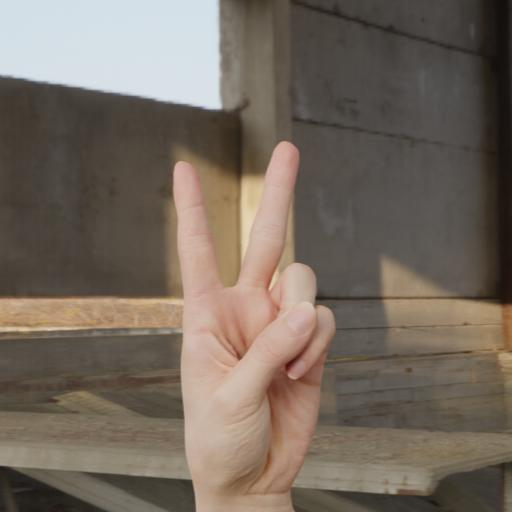V: (136, 121, 338, 509)
